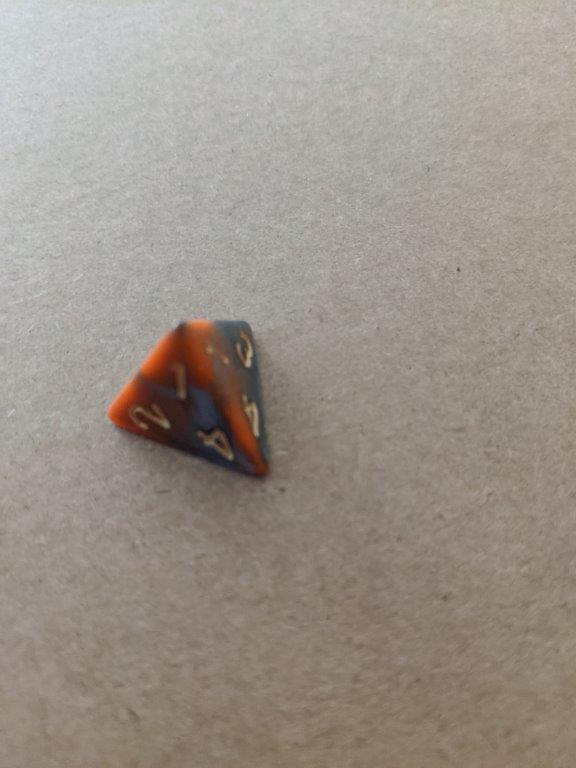d4-1: (104, 315, 281, 491)
